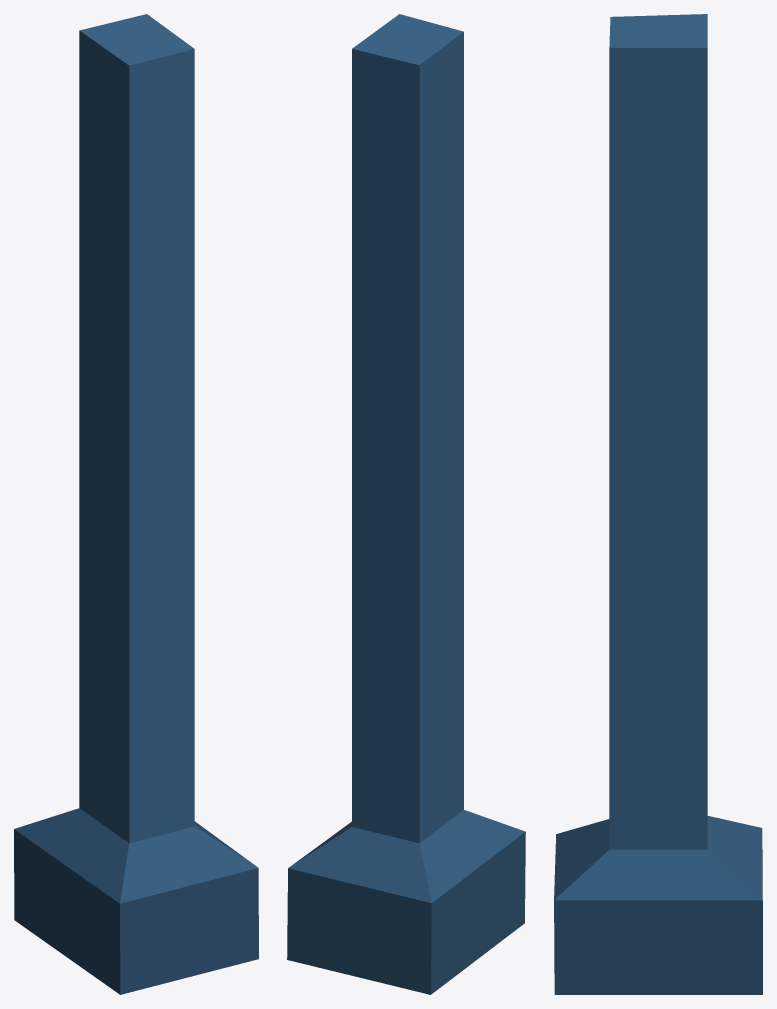
The model's file is Vent_2_C_8.fbx.
3 renders of one model, left to right at view 1: azimuth 30°, elevation 25°; view 2: azimuth 150°, elevation 25°; view 3: azimuth 270°, elevation 25°, orthographic. The views are drawn at different scales.
Parts seen in each view (by area): view 1: Vent_2_C_8; view 2: Vent_2_C_8; view 3: Vent_2_C_8.
Part boxes in pixels (x1=…): Vent_2_C_8: x1=14, y1=14, x2=258, y2=994; Vent_2_C_8: x1=287, y1=14, x2=525, y2=994; Vent_2_C_8: x1=554, y1=14, x2=762, y2=994.
Size of the model in its own units: 12.25 by 73.28 by 14.91.
